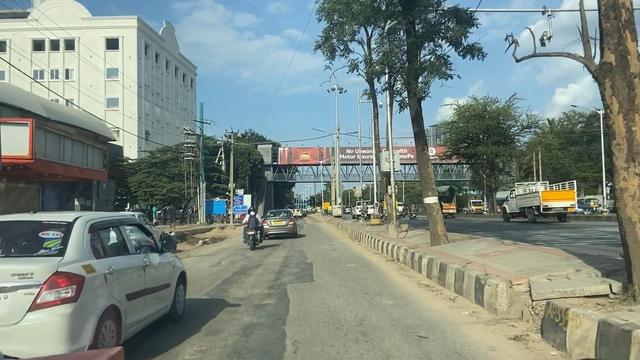LMV: (0, 211, 166, 357), (245, 201, 263, 251)
UnsurfacedRoad: (168, 291, 323, 348), (219, 252, 322, 278)
